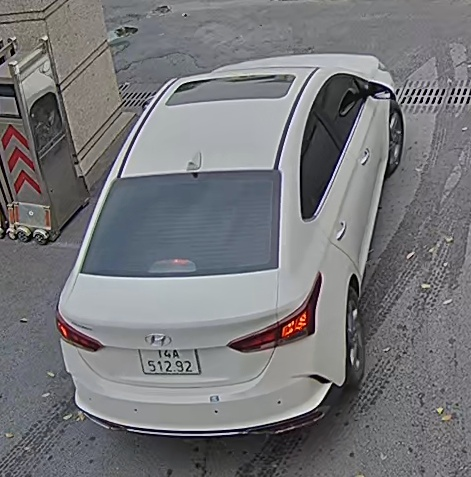vehicle plate: (131, 340, 207, 379)
